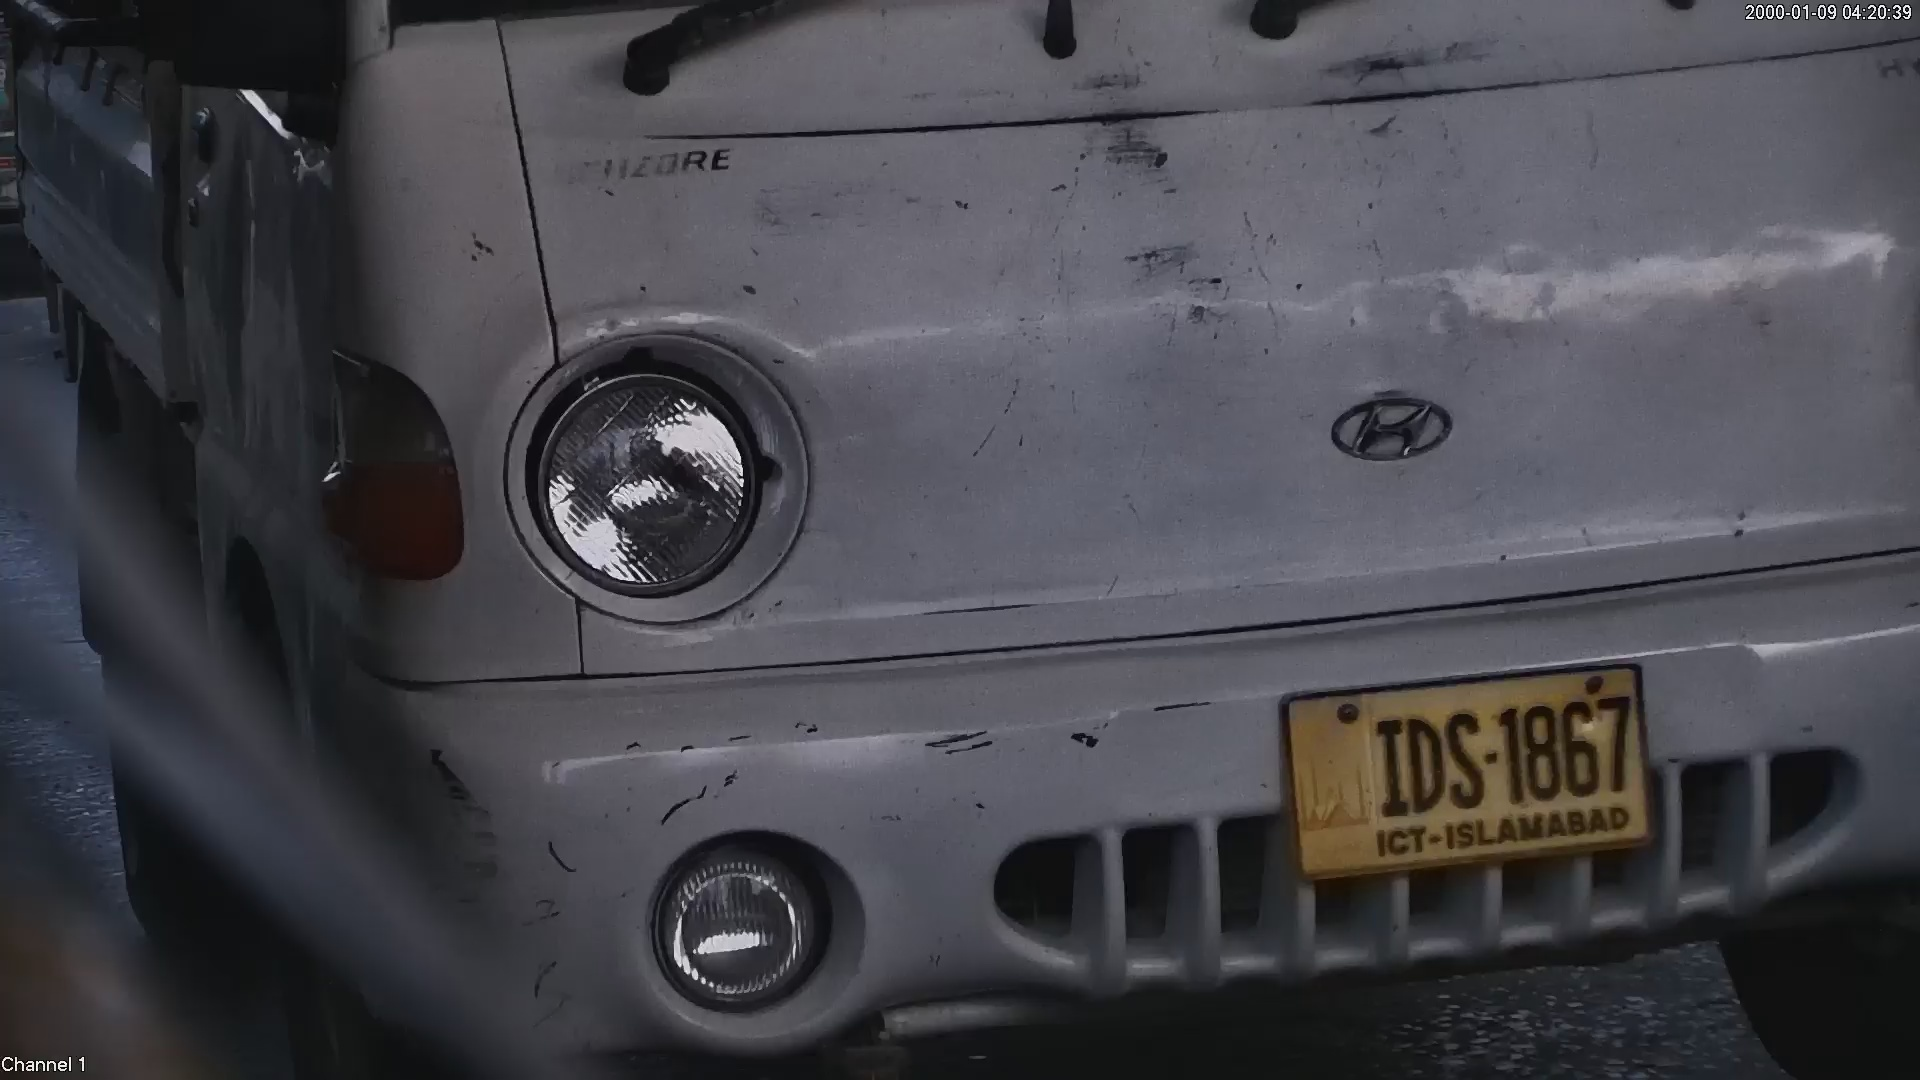Number_Plate: (1250, 644, 1689, 881)
Undefined: (476, 320, 841, 623), (593, 805, 854, 1027), (1319, 366, 1465, 481), (521, 140, 756, 207)
